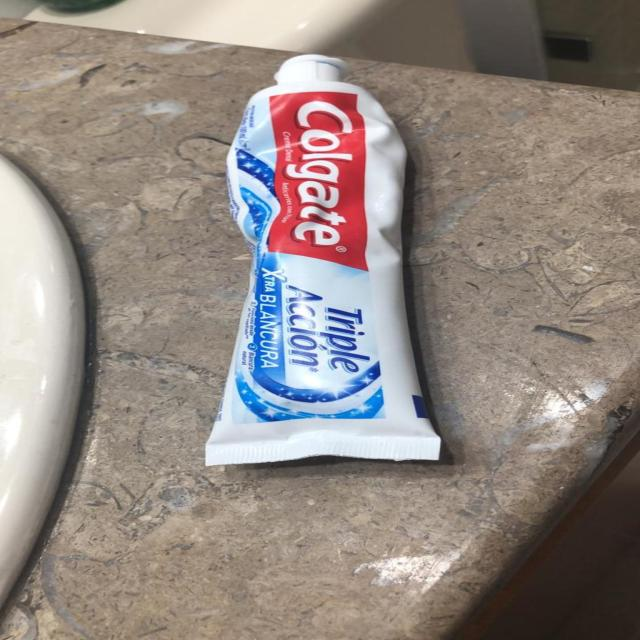Toothpaste: (200, 50, 458, 468)
